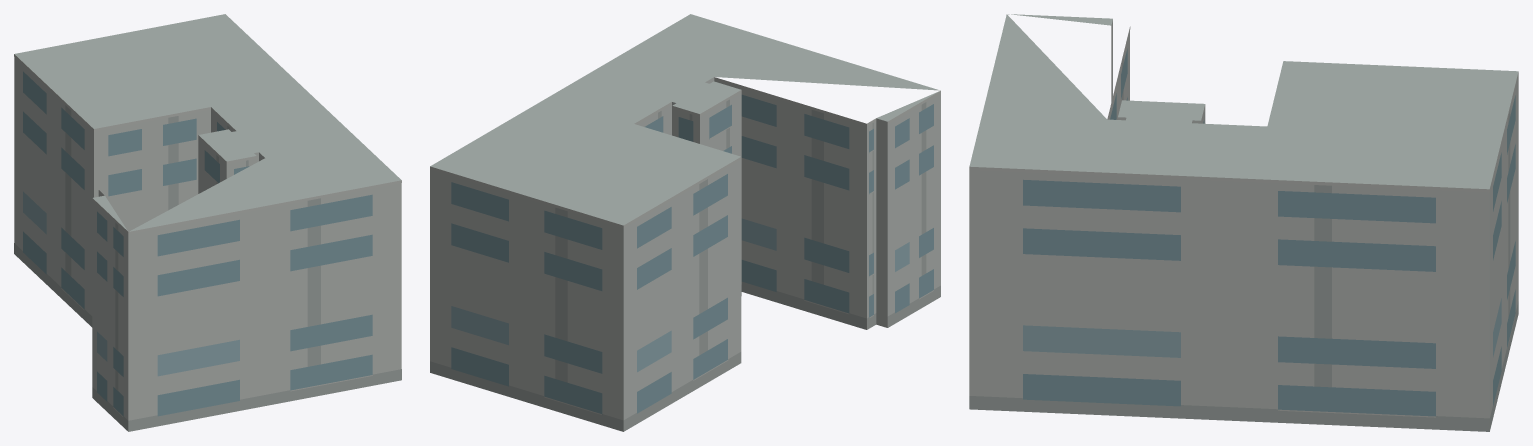
File: survey-upis-32603195.glb
The picture shows the model from 3 angles, left to right: view 1: azimuth 30°, elevation 25°; view 2: azimuth 150°, elevation 25°; view 3: azimuth 270°, elevation 25°; orthographic projection. The views are drawn at different scales.
Parts seen in each view (by area): view 1: survey-upis-32603195.tmp; view 2: survey-upis-32603195.tmp; view 3: survey-upis-32603195.tmp.
Part boxes in pixels (bbox=[...]): survey-upis-32603195.tmp: bbox=[14, 14, 401, 431]; survey-upis-32603195.tmp: bbox=[430, 14, 940, 431]; survey-upis-32603195.tmp: bbox=[969, 14, 1518, 431].
Bounding box in the file's own units: 27.88 × 17.99 × 36.91.
